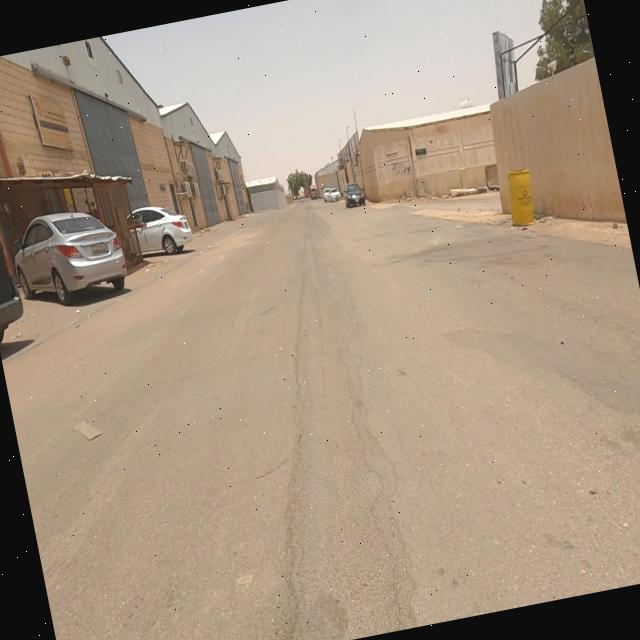Graffiti: (392, 160, 413, 180)
